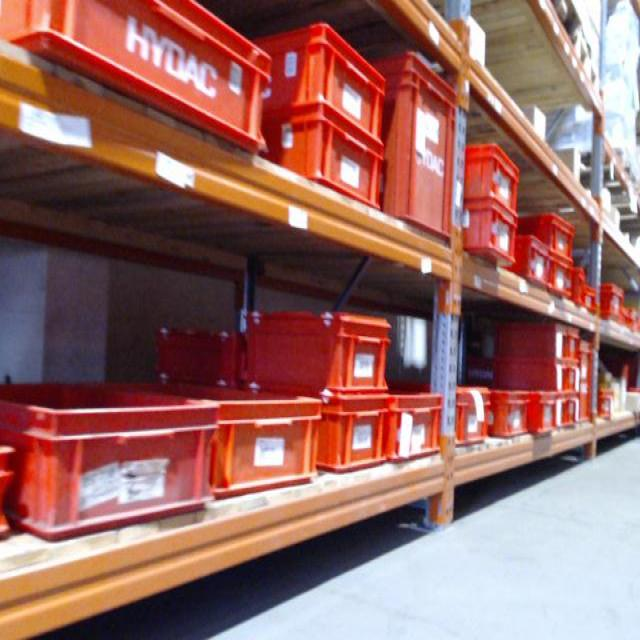pallet: (467, 2, 600, 101)
small_load_carrier: (2, 3, 278, 159), (1, 373, 215, 539), (151, 378, 323, 496), (238, 20, 390, 138), (379, 45, 460, 250), (254, 111, 386, 211), (239, 311, 388, 394), (310, 394, 395, 477), (141, 322, 247, 385), (456, 138, 521, 217), (386, 391, 440, 463), (504, 208, 576, 262), (456, 204, 517, 265), (488, 320, 569, 360), (452, 381, 496, 451), (570, 348, 598, 432), (508, 232, 550, 287), (2, 448, 24, 547), (496, 360, 567, 390), (486, 390, 530, 434), (598, 276, 628, 325), (531, 389, 560, 439), (543, 259, 570, 301), (594, 387, 618, 425), (570, 267, 587, 308), (564, 395, 579, 427), (586, 284, 599, 313), (564, 363, 578, 389), (563, 329, 580, 349)
